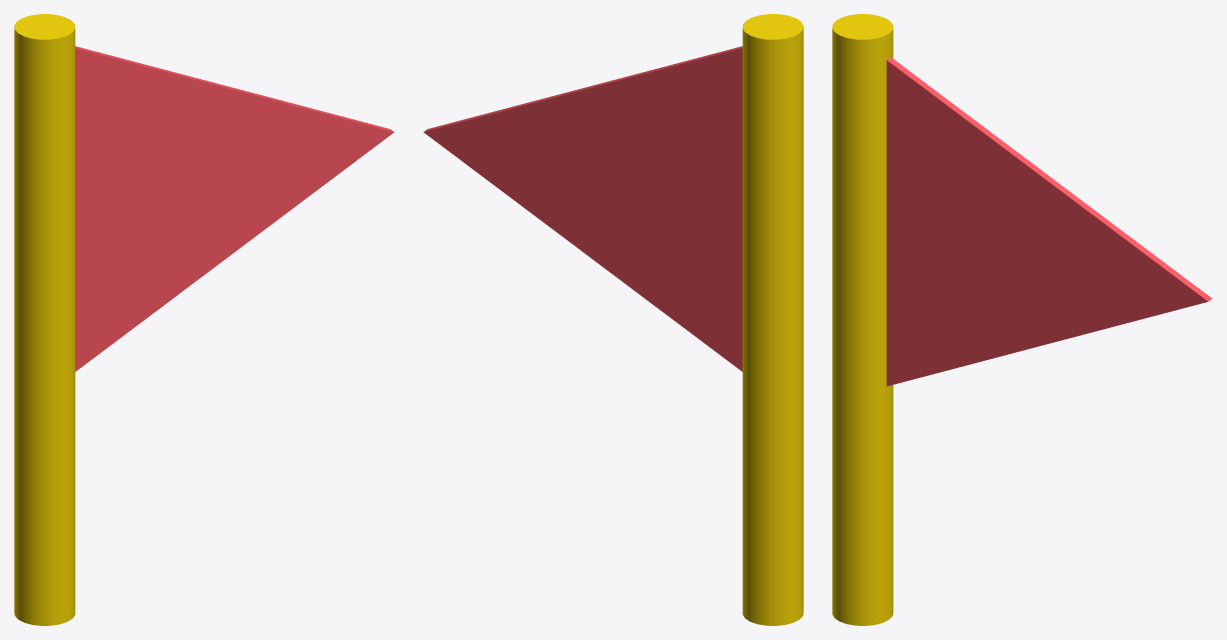
Rendered from Gool.fbx.
3 renders of one model, left to right at view 1: azimuth 30°, elevation 25°; view 2: azimuth 150°, elevation 25°; view 3: azimuth 330°, elevation 25°, orthographic.
Parts seen in each view (by area): view 1: pCylinder2; view 2: pCylinder2; view 3: pCylinder2.
Boxes of the visible parts, left/top/right/bottom form: pCylinder2: left=14, top=14, right=394, bottom=625; pCylinder2: left=423, top=14, right=803, bottom=625; pCylinder2: left=832, top=14, right=1212, bottom=625.
Bounding box in the file's own units: 0.6681 × 1 × 0.095.
